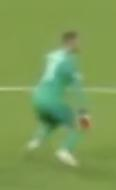goalkeeper: (22, 18, 116, 186)
